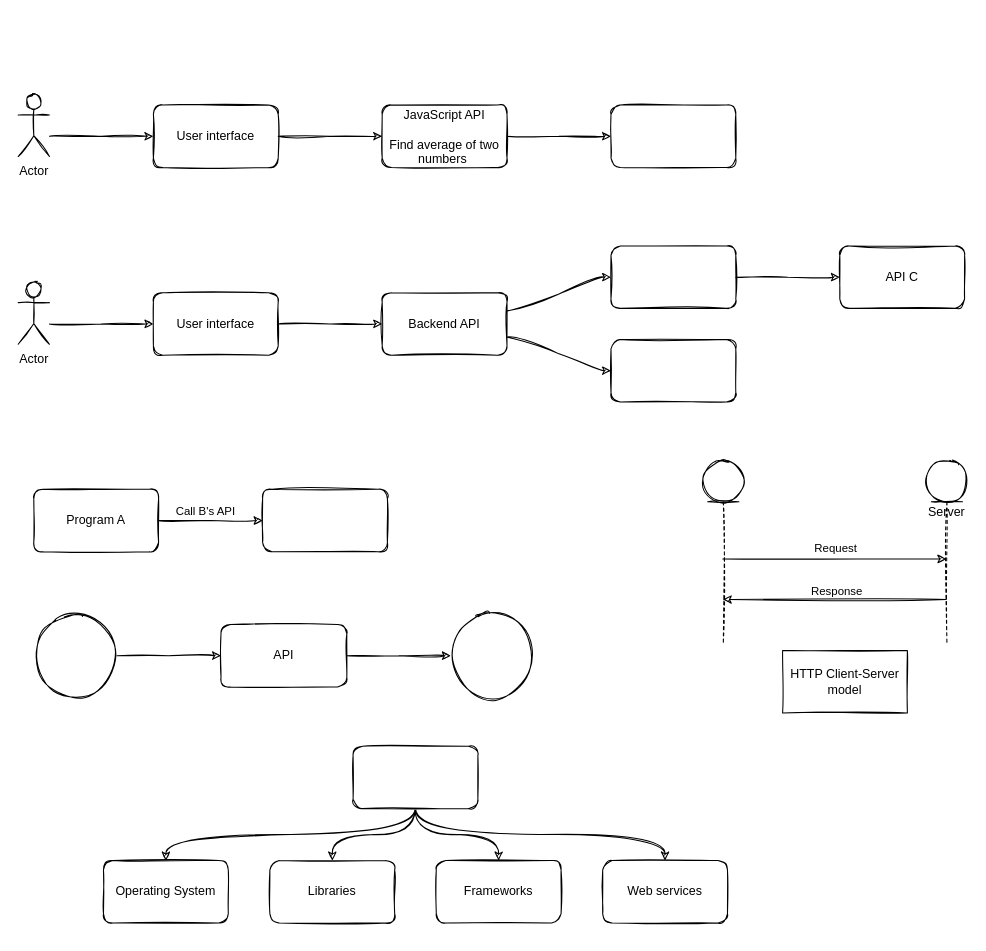
This 986x951 diagram has some shape labels left out. Each missing label, with the box of its shape:
API A: (610, 245, 736, 308)
API B: (610, 339, 736, 402)
API Types: (352, 745, 478, 809)
Client: (701, 459, 744, 642)
Inputs: (33, 613, 117, 697)
Outputs: (450, 613, 534, 697)
Program B: (262, 488, 387, 552)
Python API Find sum of two numbers: (610, 104, 736, 167)
